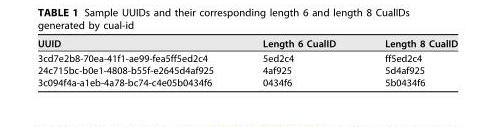table: (37, 37, 457, 87)
table column: (37, 37, 237, 87), (237, 37, 359, 87), (359, 37, 457, 87)
table column header: (37, 37, 457, 50)
table row: (37, 37, 457, 50), (37, 50, 457, 63), (37, 63, 457, 75), (37, 75, 457, 87)
